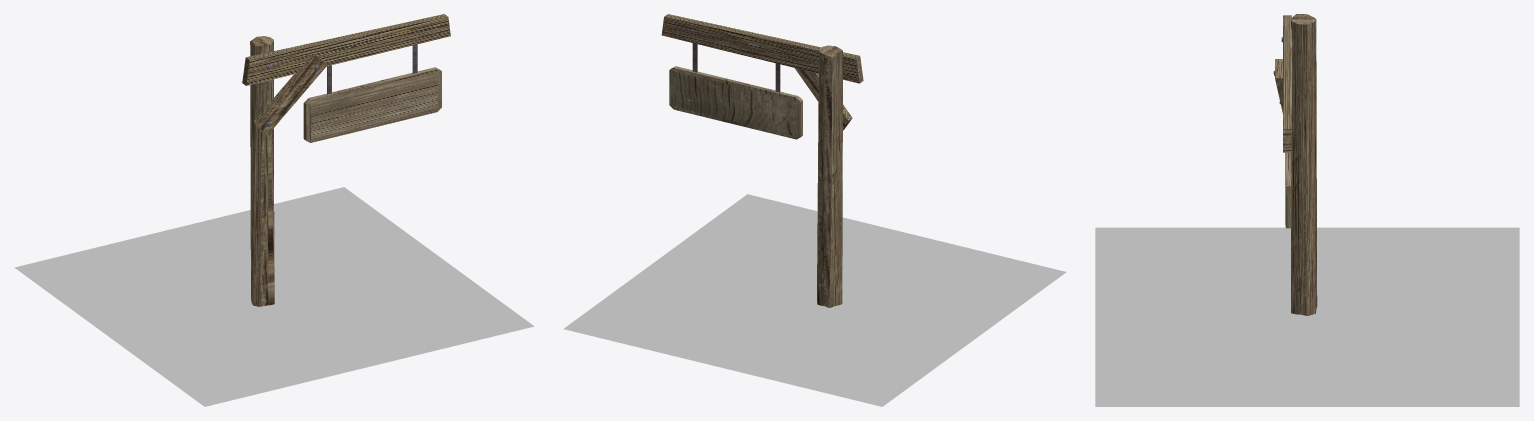
The picture shows the model from 3 angles, left to right: view 1: azimuth 30°, elevation 25°; view 2: azimuth 150°, elevation 25°; view 3: azimuth 270°, elevation 25°; orthographic projection. The views are drawn at different scales.
Parts seen in each view (by area): view 1: Chao, Base, Placa; view 2: Chao, Base, Placa; view 3: Chao, Base, Placa.
Part boxes in pixels (x1,y1,x2,y2): Chao: (14,187,534,406); Base: (242,14,450,306); Placa: (303,67,441,142); Chao: (563,194,1066,406); Base: (661,14,863,307); Placa: (669,66,802,139); Chao: (1095,227,1519,406); Base: (1273,14,1317,315); Placa: (1285,152,1291,228).
Bounding box in the file's own units: 2 × 1.52 × 2.
